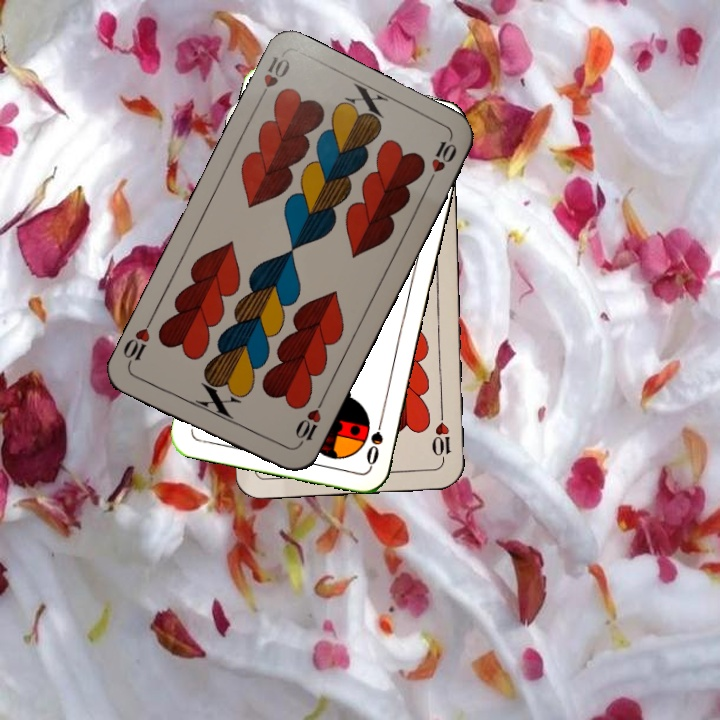H10: (253, 50, 293, 107), (291, 395, 326, 451), (428, 408, 453, 467)
SO: (362, 410, 387, 468)
